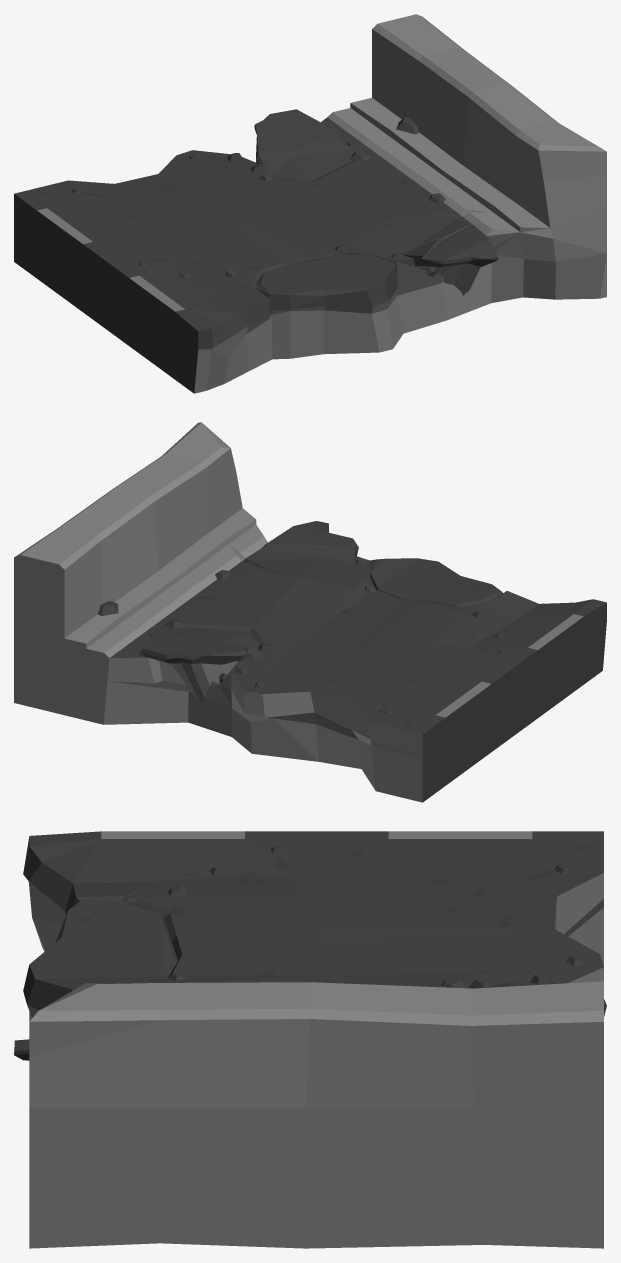
File: SM_Env_Motorway_Edge_Destroyed_01.glb
The picture shows the model from 3 angles, top to bottom: view 1: azimuth 30°, elevation 25°; view 2: azimuth 150°, elevation 25°; view 3: azimuth 270°, elevation 25°; orthographic projection. The views are drawn at different scales.
Parts seen in each view (by area): view 1: SM_Env_Motorway_Edge_Destroyed_01; view 2: SM_Env_Motorway_Edge_Destroyed_01; view 3: SM_Env_Motorway_Edge_Destroyed_01.
Boxes of the visible parts, box(x1,y1,x2,y2) form: SM_Env_Motorway_Edge_Destroyed_01: box(14, 14, 606, 393); SM_Env_Motorway_Edge_Destroyed_01: box(14, 422, 606, 802); SM_Env_Motorway_Edge_Destroyed_01: box(14, 831, 606, 1248).
Size of the model in its own units: 6.4 by 2.24 by 5.16.
Materials: 1 (1 with a texture image).
